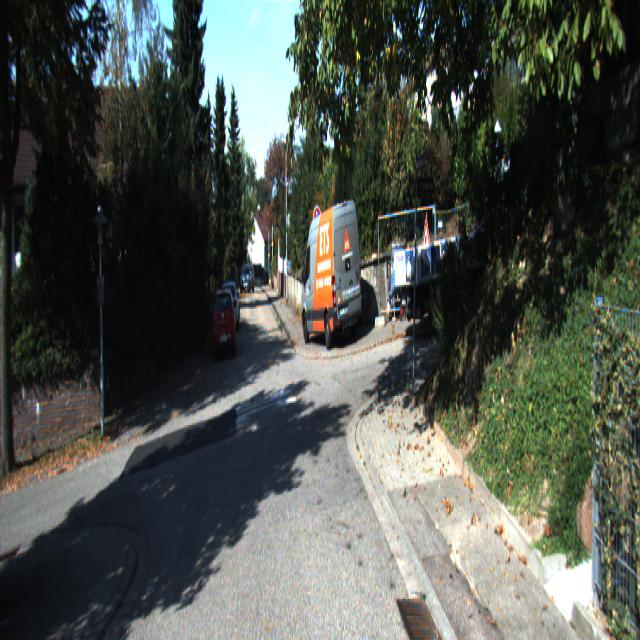Car: (392, 152, 532, 362), (300, 194, 364, 349), (209, 284, 237, 363), (240, 264, 255, 291)
